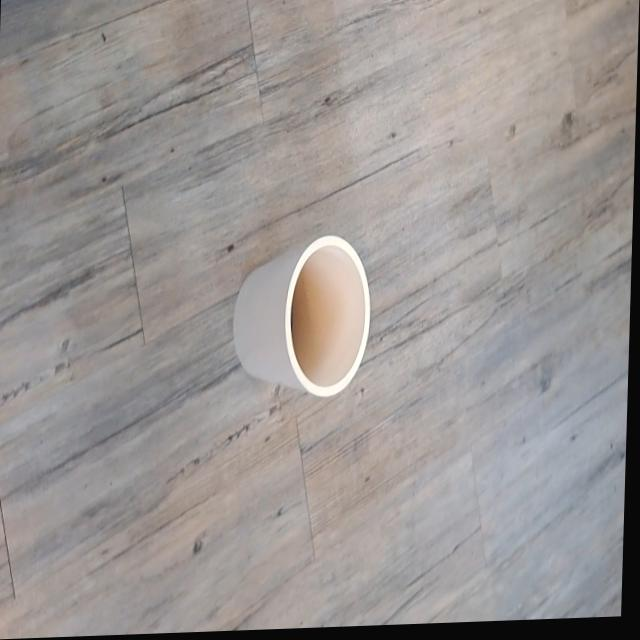CORAL: (201, 221, 411, 428)
